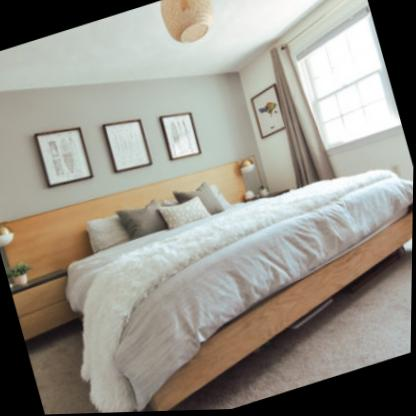Bed: (60, 126, 414, 414)
Curtains: (270, 45, 337, 190)
Frame: (37, 129, 93, 188), (103, 120, 153, 172), (249, 85, 288, 142), (161, 114, 203, 162)
